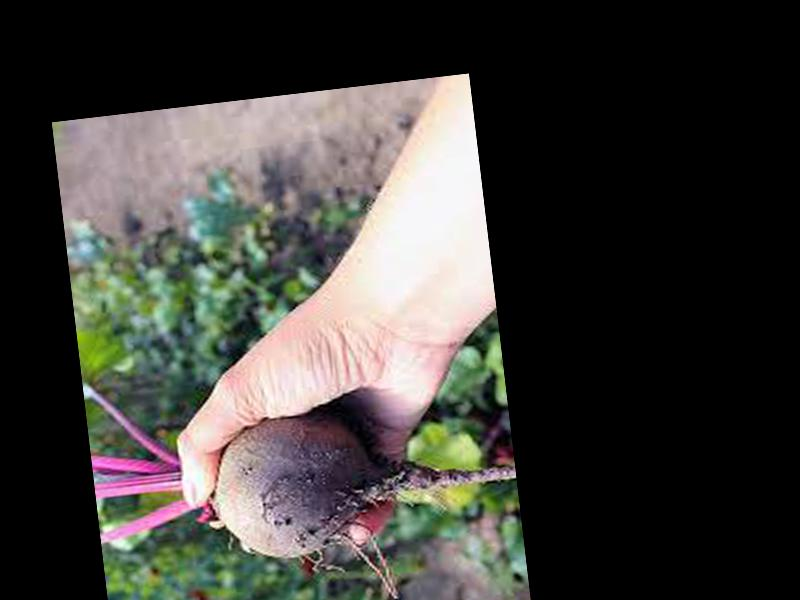Beet: (84, 332, 529, 600)
